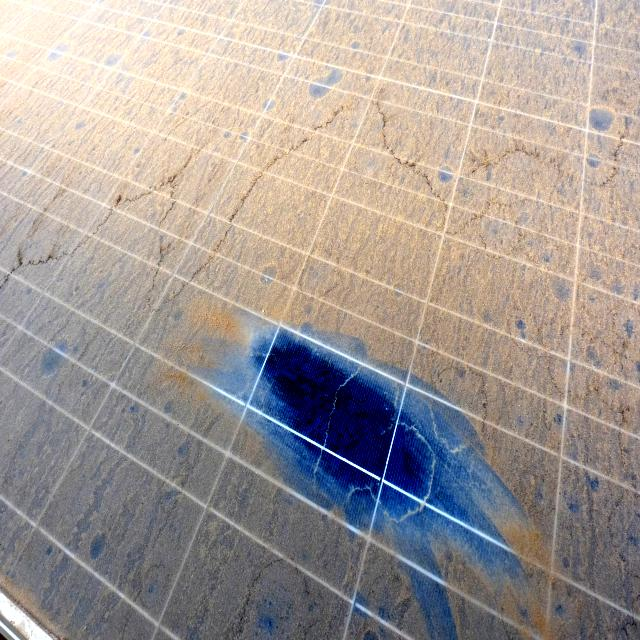dust: (2, 0, 285, 290), (430, 3, 630, 204), (2, 326, 106, 638), (116, 316, 285, 494), (449, 228, 596, 417), (298, 216, 436, 404), (270, 506, 444, 640), (298, 0, 418, 170), (476, 456, 616, 564)
